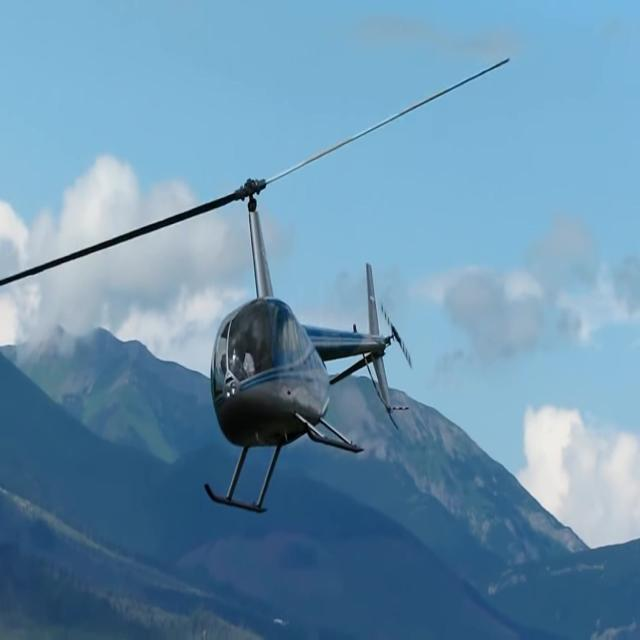CIV_HELO: (203, 174, 414, 521)
